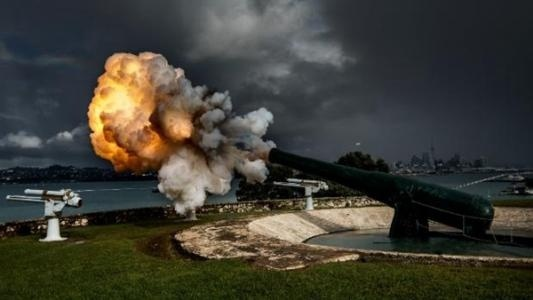fire: (85, 49, 184, 169)
